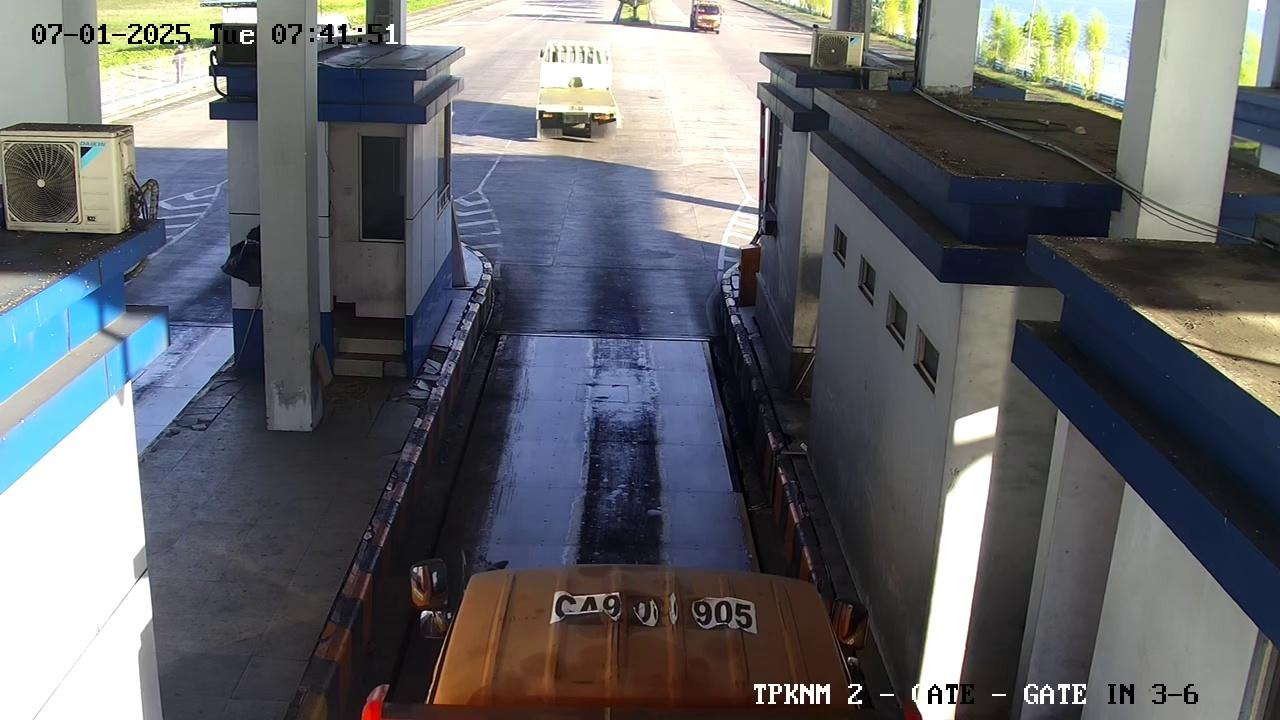truck_id: (537, 577, 768, 642)
